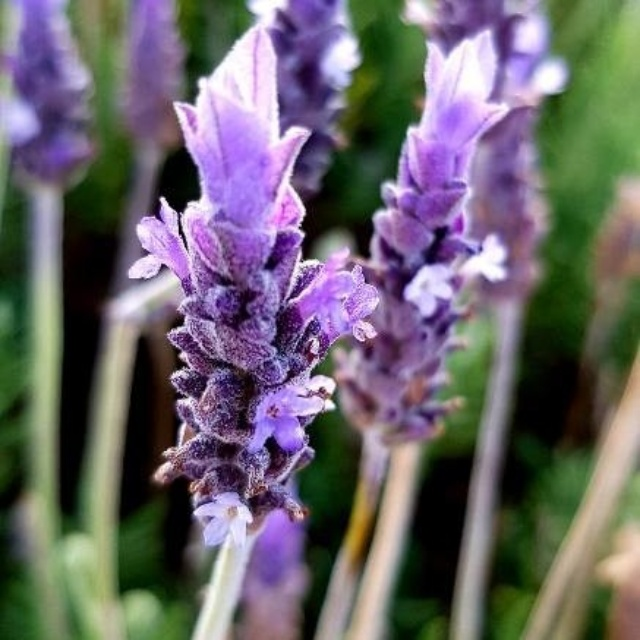obstacle: (107, 79, 489, 611)
